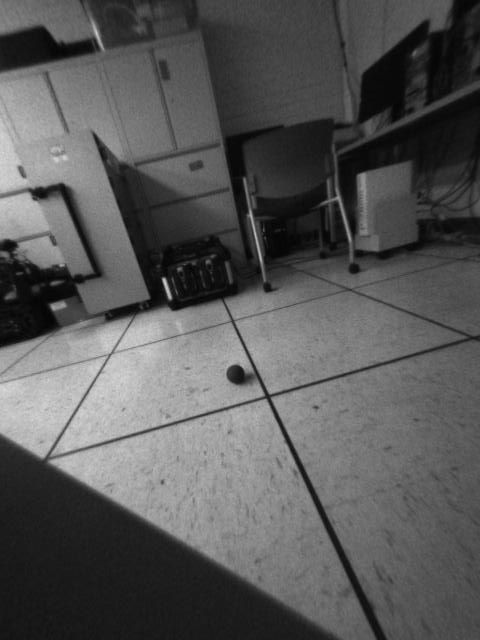dogtoy: (221, 359, 251, 392)
